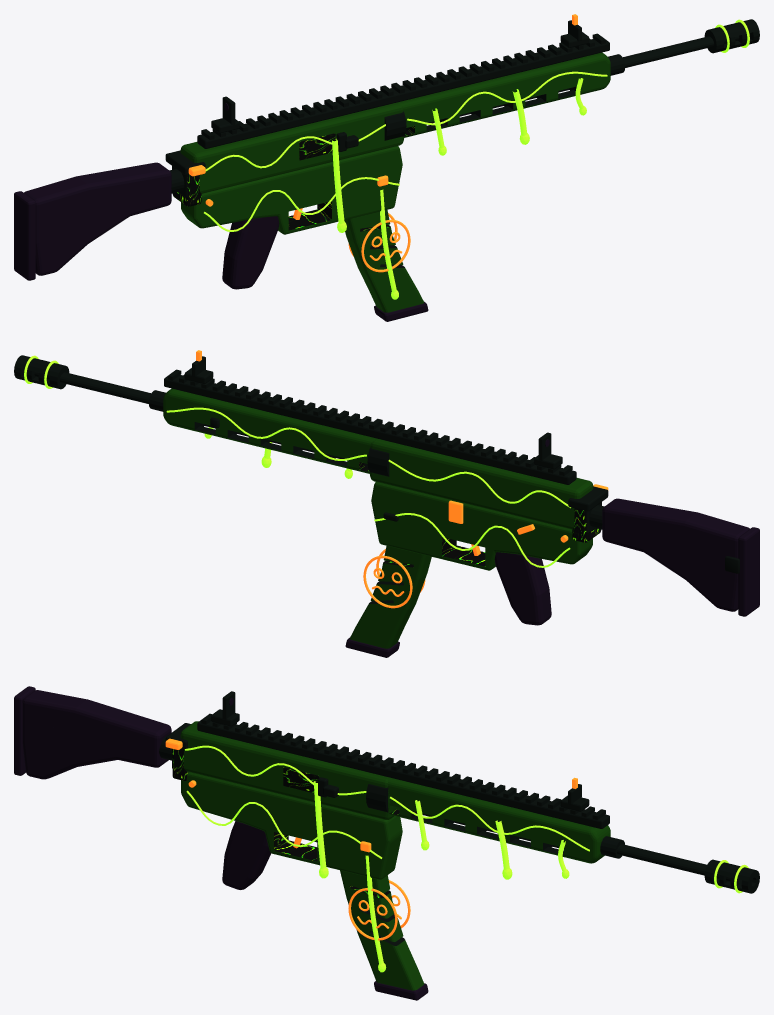
The model's file is ar75_toxic_halloween.glb.
3 views of the same model, one above another, from view 1: azimuth 30°, elevation 25°; view 2: azimuth 150°, elevation 25°; view 3: azimuth 330°, elevation 25° (orthographic).
Visible parts, largest first — view 1: AR75__LowerReceiver, AR75__Stock, AR75__UpperReceiver, AR75__Handguard, AR75__TopRail, AR75__Magazine, AR75__PistolGrip, AR75__ButtPad, AR75__Barrel, AR75__MuzzleBrake, AR75__DustCover, HW_RaisedVein_Lower_Near (+5 smaller); view 2: AR75__LowerReceiver, AR75__Stock, AR75__UpperReceiver, AR75__Handguard, AR75__TopRail, AR75__Magazine, AR75__PistolGrip, AR75__ButtPad, AR75__Barrel, AR75__MuzzleBrake, HW_RaisedVein_Lower_Far, HW_RaisedVein_Handguard_Far (+4 smaller); view 3: AR75__LowerReceiver, AR75__Stock, AR75__UpperReceiver, AR75__Handguard, AR75__TopRail, AR75__Magazine, AR75__PistolGrip, AR75__MuzzleBrake, AR75__Barrel, AR75__ButtPad, AR75__DustCover, HW_RaisedVein_Lower_Near (+5 smaller).
Part boxes in pixels (x1,y1,x2,y2): AR75__LowerReceiver: (181,146,402,234); AR75__Stock: (24,162,171,275); AR75__UpperReceiver: (180,104,403,193); AR75__Handguard: (384,52,610,137); AR75__TopRail: (197,39,609,148); AR75__Magazine: (344,210,424,312); AR75__PistolGrip: (222,216,279,289); AR75__ButtPad: (14,191,35,280); AR75__Barrel: (622,35,739,67); AR75__MuzzleBrake: (704,19,759,53); AR75__DustCover: (299,133,335,160); HW_RaisedVein_Lower_Near: (204,177,399,231); AR75__LowerReceiver: (371,482,592,570); AR75__Stock: (602,498,749,611); AR75__UpperReceiver: (370,439,593,529); AR75__Handguard: (163,388,389,473); AR75__TopRail: (164,375,576,484); AR75__Magazine: (349,546,431,648); AR75__PistolGrip: (494,552,551,625); AR75__ButtPad: (738,527,759,616); AR75__Barrel: (34,371,151,403); AR75__MuzzleBrake: (14,355,69,389); HW_RaisedVein_Lower_Far: (374,513,570,567); HW_RaisedVein_Handguard_Far: (166,407,366,460); AR75__LowerReceiver: (181,772,402,879); AR75__Stock: (22,690,171,779); AR75__UpperReceiver: (180,721,399,819); AR75__Handguard: (375,774,610,863); AR75__TopRail: (197,720,609,828); AR75__Magazine: (340,870,424,990); AR75__PistolGrip: (222,821,271,889); AR75__MuzzleBrake: (704,859,759,893); AR75__Barrel: (617,844,730,881); AR75__ButtPad: (14,686,35,775); AR75__DustCover: (283,767,319,793); HW_RaisedVein_Lower_Near: (186,790,382,858).
Size of the model in its own units: 1.13 by 0.3782 by 0.0648.
Materials: 5 (1 with a texture image).
